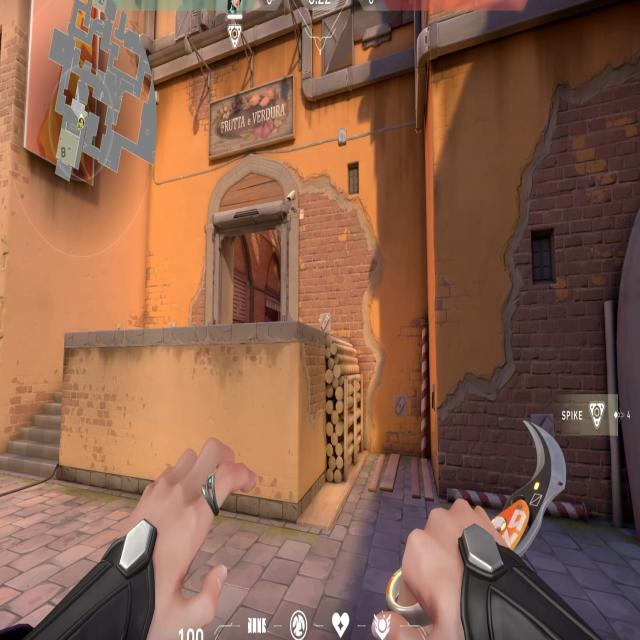B_Cubby: (298, 317, 440, 544)
